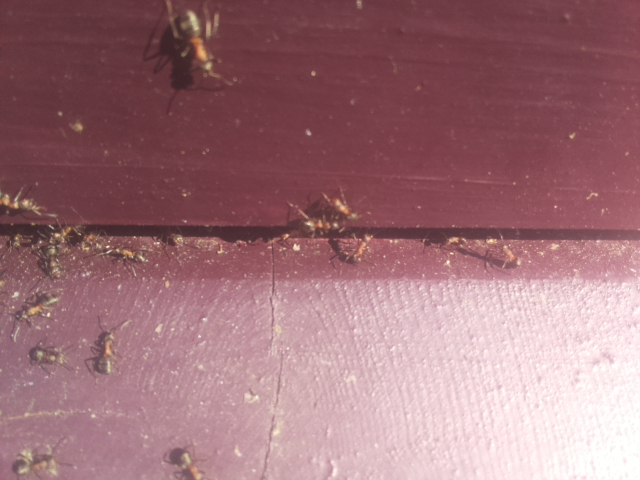ant: (162, 0, 232, 82), (3, 446, 66, 480), (159, 440, 212, 480), (14, 287, 60, 323), (317, 191, 365, 225), (93, 324, 118, 385), (26, 343, 69, 366), (99, 245, 151, 262), (43, 237, 63, 280)
